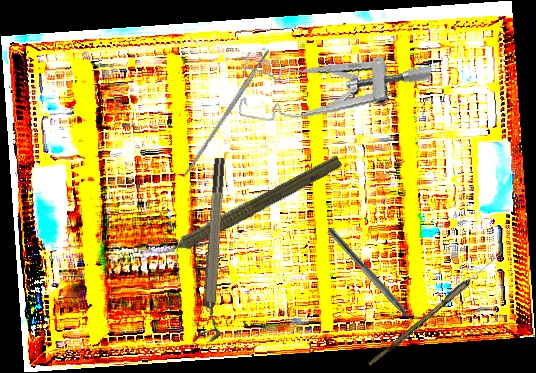Chopper: (320, 227, 426, 339)
Fixation Ring: (195, 157, 236, 343)
Handpiece: (142, 147, 345, 271)
Scalpel Handle: (181, 48, 272, 180)
Speculum: (236, 35, 433, 146)
Surgical Spoon: (367, 248, 505, 370)
